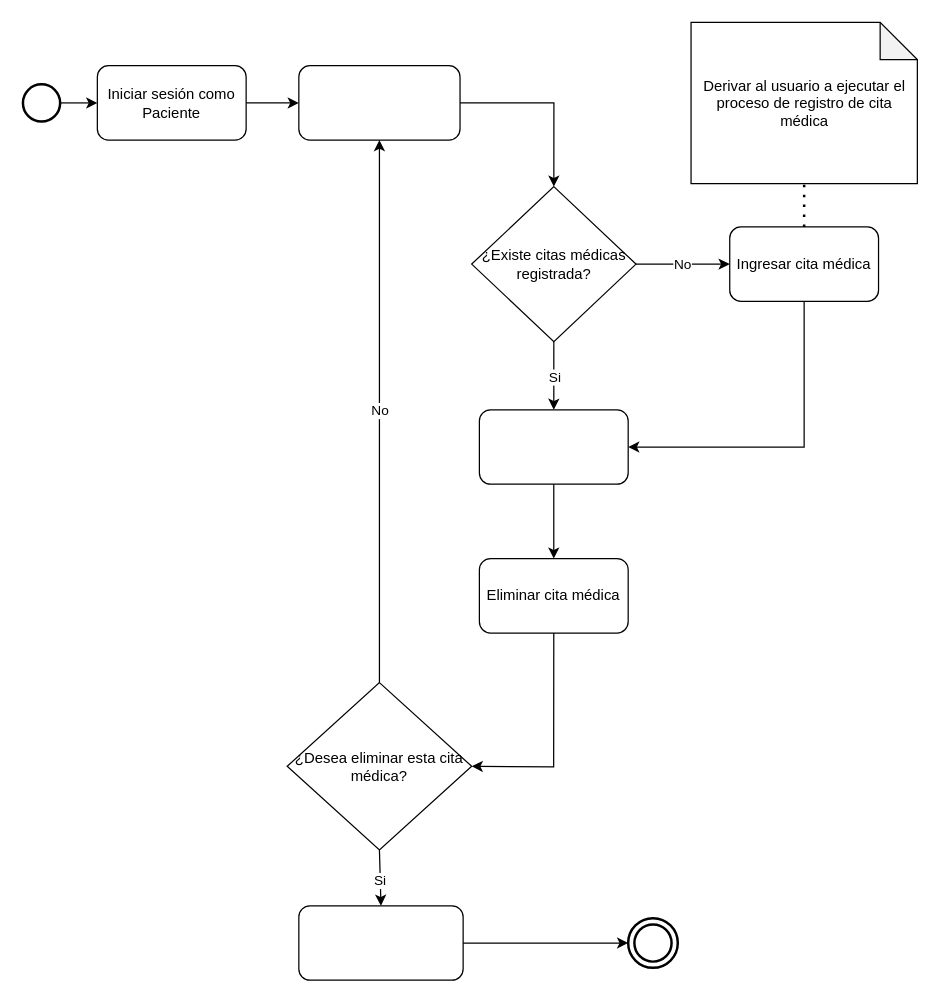
The diagram is 939 pixels wide and 1002 high, and some of its shapes have lost their labels. Each missing label, with the centre of its shape:
"Acceder a Registrar Cita Médica" goes at point (379, 102).
"Registrar modificación en el sistema" goes at point (380, 942).
"Seleccionar cita médica" goes at point (553, 446).
